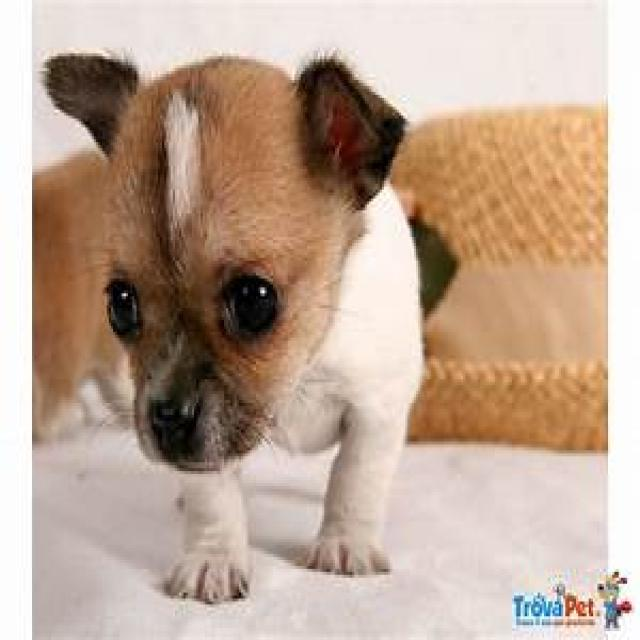animal: (40, 49, 425, 601)
